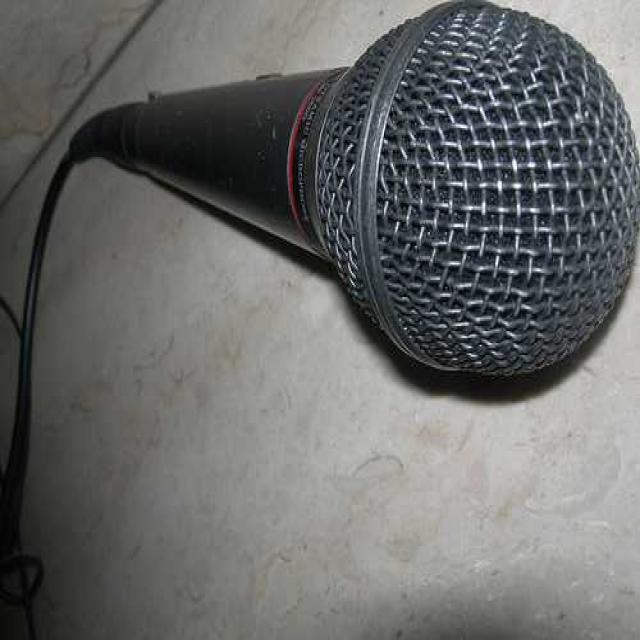microphone: (72, 4, 632, 378)
